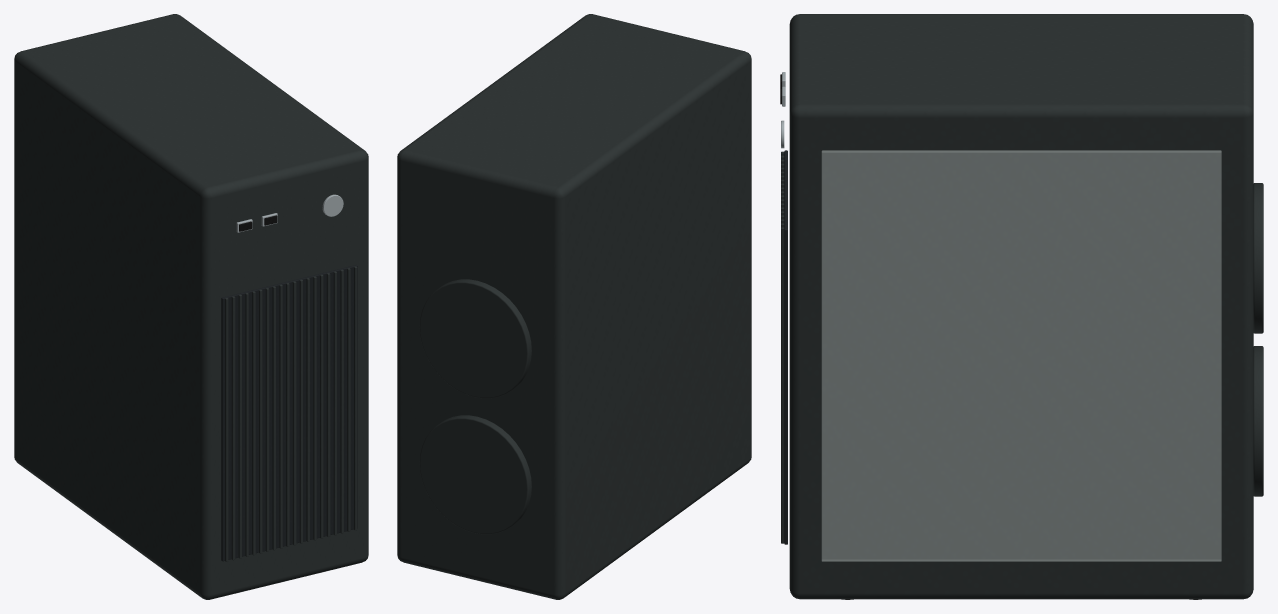
The model's file is work-tower-pc.glb.
3 renders of one model, left to right at view 1: azimuth 30°, elevation 25°; view 2: azimuth 150°, elevation 25°; view 3: azimuth 270°, elevation 25°, orthographic. The views are drawn at different scales.
Parts seen in each view (by area): view 1: Workstation metal tower, Dark grille backing, Grille rib.001, Grille rib.010, Grille rib.006, Grille rib.015, Grille rib.002, Grille rib.005, Grille rib.007, Grille rib.008, Grille rib.013, Grille rib.014 (+10 smaller); view 2: Workstation metal tower, Rear cooling fan.001, Rear cooling fan; view 3: Workstation metal tower, Smoked access panel, Rear cooling fan, Rear cooling fan.001, Dark grille backing, Grille rib.019.
Part boxes in pixels (x1,y1,x2,y2): Workstation metal tower: [14, 14, 368, 599]; Dark grille backing: [221, 264, 357, 561]; Grille rib.001: [231, 296, 235, 560]; Grille rib.010: [292, 281, 296, 545]; Grille rib.006: [265, 288, 269, 551]; Grille rib.015: [326, 273, 330, 536]; Grille rib.002: [238, 294, 241, 558]; Grille rib.005: [259, 289, 262, 553]; Grille rib.007: [272, 286, 275, 550]; Grille rib.008: [279, 284, 282, 548]; Grille rib.013: [313, 276, 316, 540]; Grille rib.014: [320, 274, 323, 538]; Workstation metal tower: [397, 14, 751, 599]; Rear cooling fan.001: [419, 279, 531, 398]; Rear cooling fan: [419, 415, 531, 534]; Workstation metal tower: [789, 14, 1253, 599]; Smoked access panel: [821, 150, 1221, 561]; Rear cooling fan: [1253, 346, 1263, 496]; Rear cooling fan.001: [1253, 183, 1263, 333]; Dark grille backing: [784, 150, 787, 544]; Grille rib.019: [781, 227, 784, 543].
Size of the model in its own units: 0.205 by 0.474 by 0.4165.
Materials: 6 (6 with a texture image).
